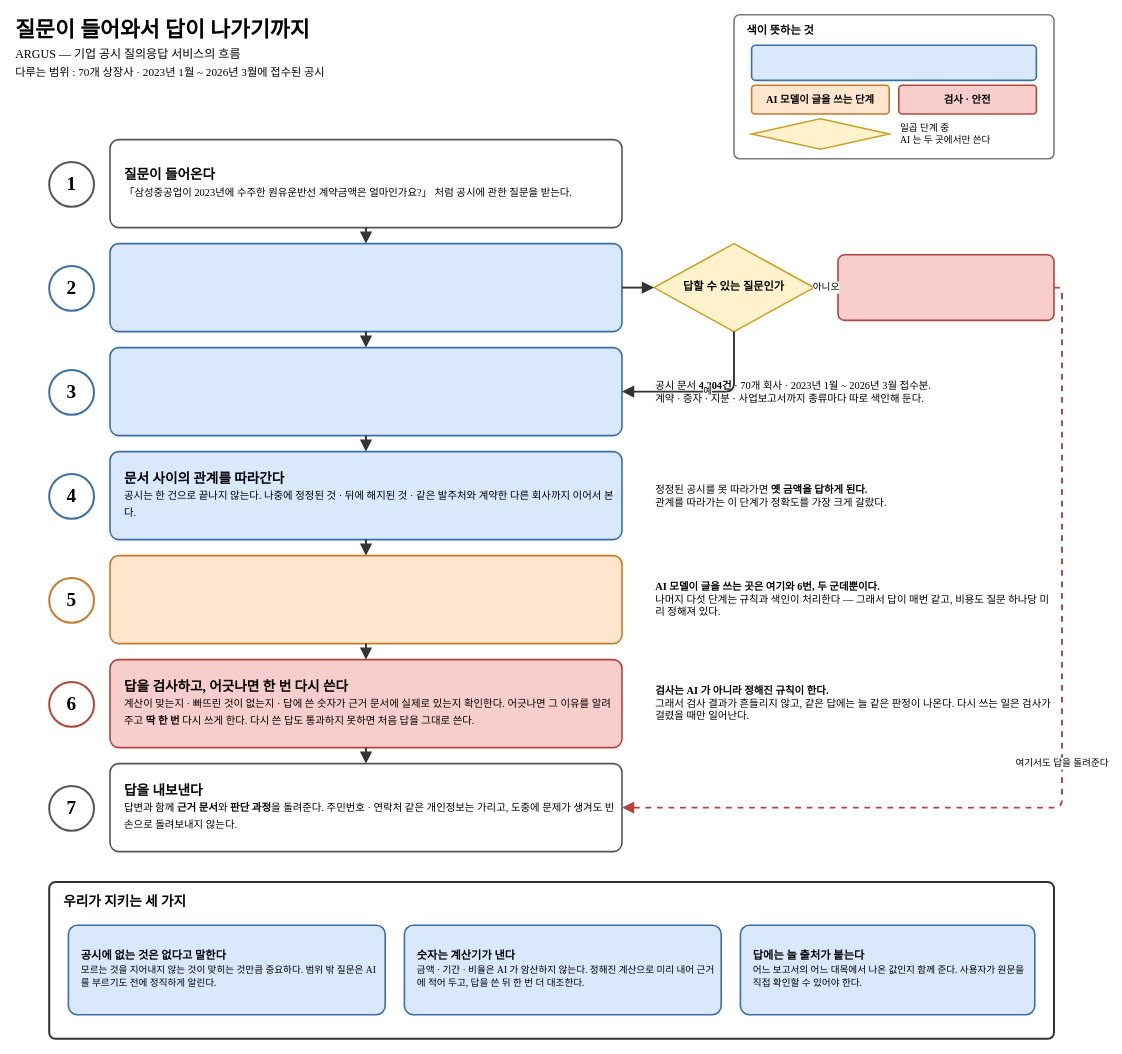
The diagram is 1122 pixels wide and 1054 high, and some of its shapes have lost their labels. The centre of each missing label's shape, as x and y in pixels:
"갈림길" goes at pixel 820 134.
"공시를 찾는다 쌓아 둔 공시 문서에서 질문과 맞는 대목을 추려 온다. 근거가 모자라면 조건을 넓혀 다시 찾는다 — 정해진 횟수까지만." goes at pixel 365 391.
"규칙과 색인이 처리하는 단계 AI 모델을 부르지 않는다 — 빠르고, 매번 같은 결과가 나온다" goes at pixel 893 62.
"근거를 읽고 답을 쓴다 찾아온 공시만 보고 답한다. 어느 보고서의 어느 대목에서 나온 값인지 답변 안에 함께 밝힌다." goes at pixel 365 599.
"무엇을 묻는지 읽는다 어느 회사의 · 언제의 · 무엇을 묻는지 가려낸다. 그리고 우리가 가진 공시로 답할 수 있는 질문인지 먼저 판단한다." goes at pixel 365 287.
"아니면 여기서 멈춘다 지어내지 않는다. 대신 무엇을 물으면 답해 드릴 수 있는지 되묻는다." goes at pixel 945 287.
